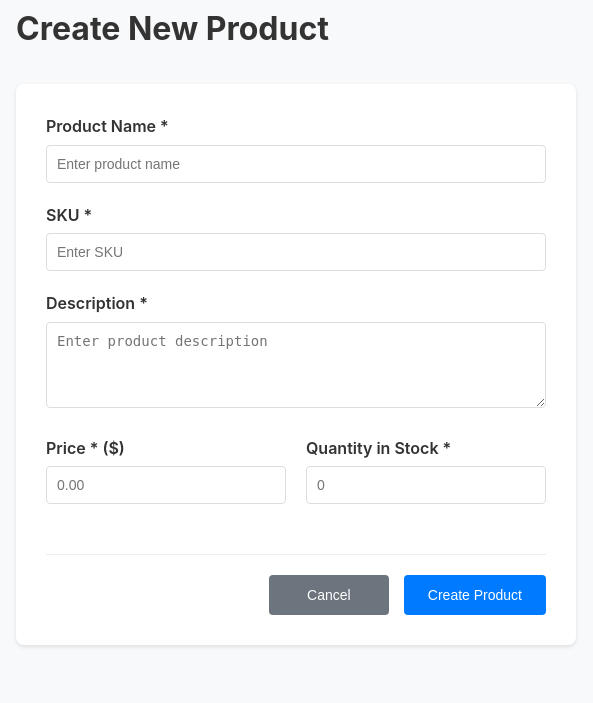
Scenario: Product Create Frontend E2E Tests › should validate price field accepts only positive numbers
Type "Test Product" into the field with test id "product-name-input".
click(296, 164); type("Test Product")  # box [46,145,546,183]
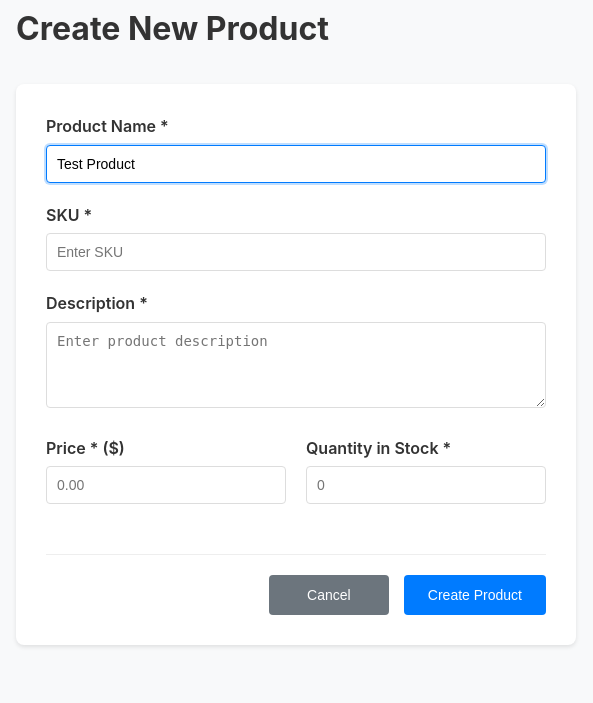
Type "TEST-001" into the field with test id "product-sku-input".
click(296, 252); type("TEST-001")  # box [46,233,546,271]
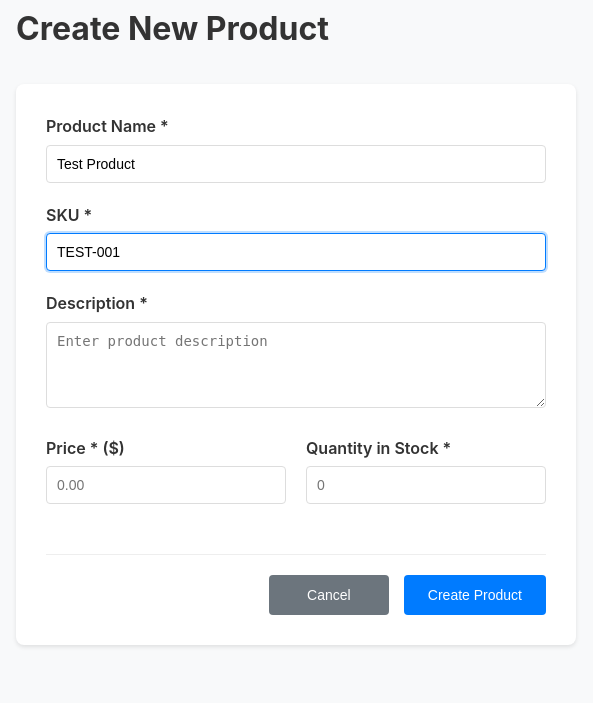
Type "Test description" into the text box with test id "product-description-input".
click(296, 365); type("Test description")  # box [46,322,546,408]
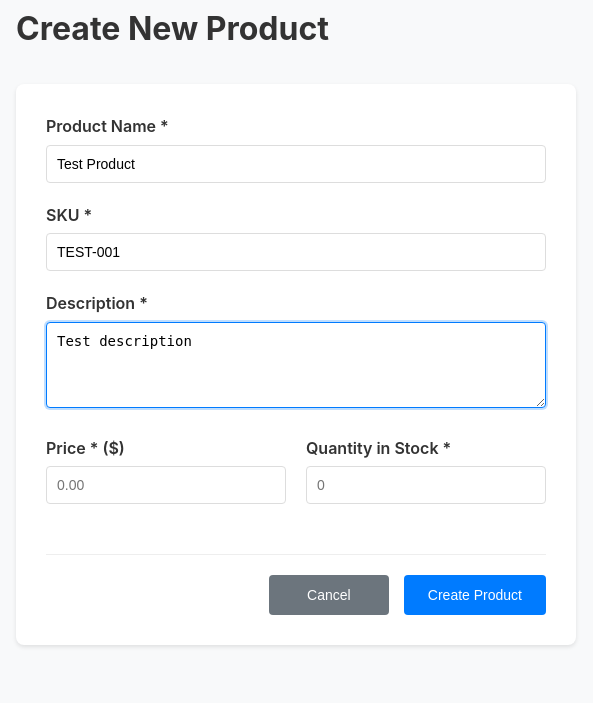
Type "-10" into the number field with test id "product-price-input".
click(166, 485); type("-10")  # box [46,466,286,504]
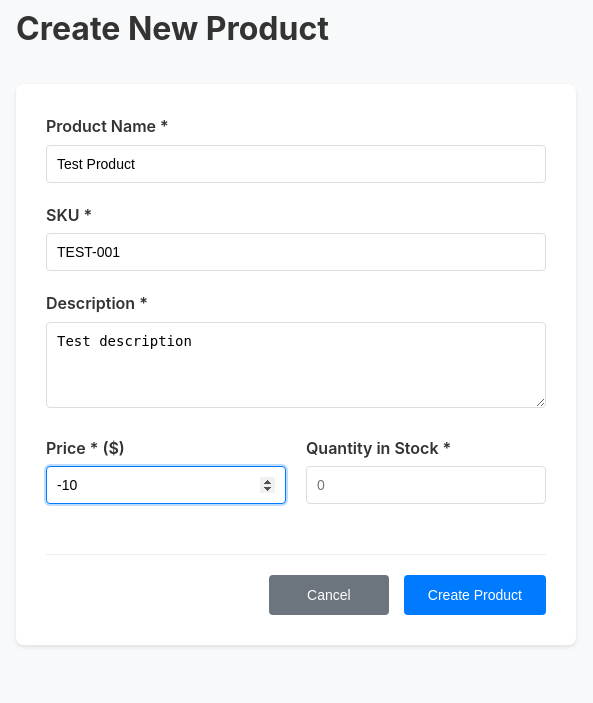
Type "5" into the number field with test id "product-quantity-input".
click(426, 485); type("5")  # box [306,466,546,504]
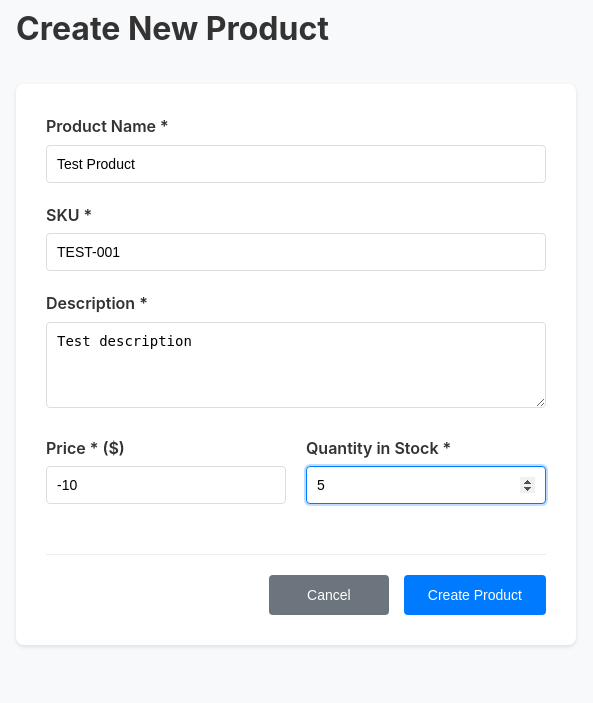
Click the button with test id "submit-btn".
click(475, 595)  # box [404,575,546,615]
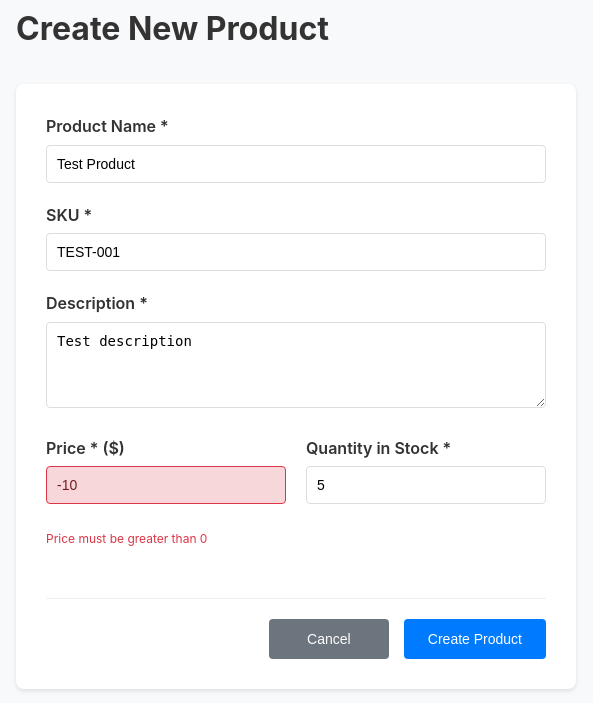
Now the text "Price must be greater than 0" is shown, box [46,531,207,546]
